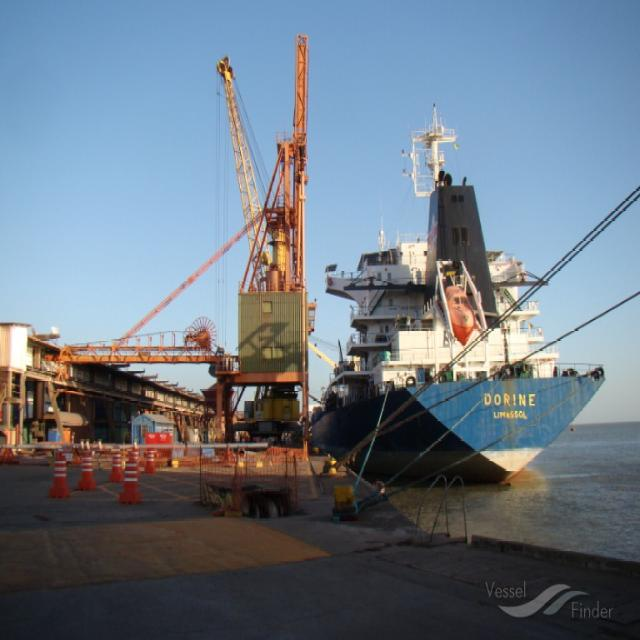OCR: (484, 382, 537, 426)
